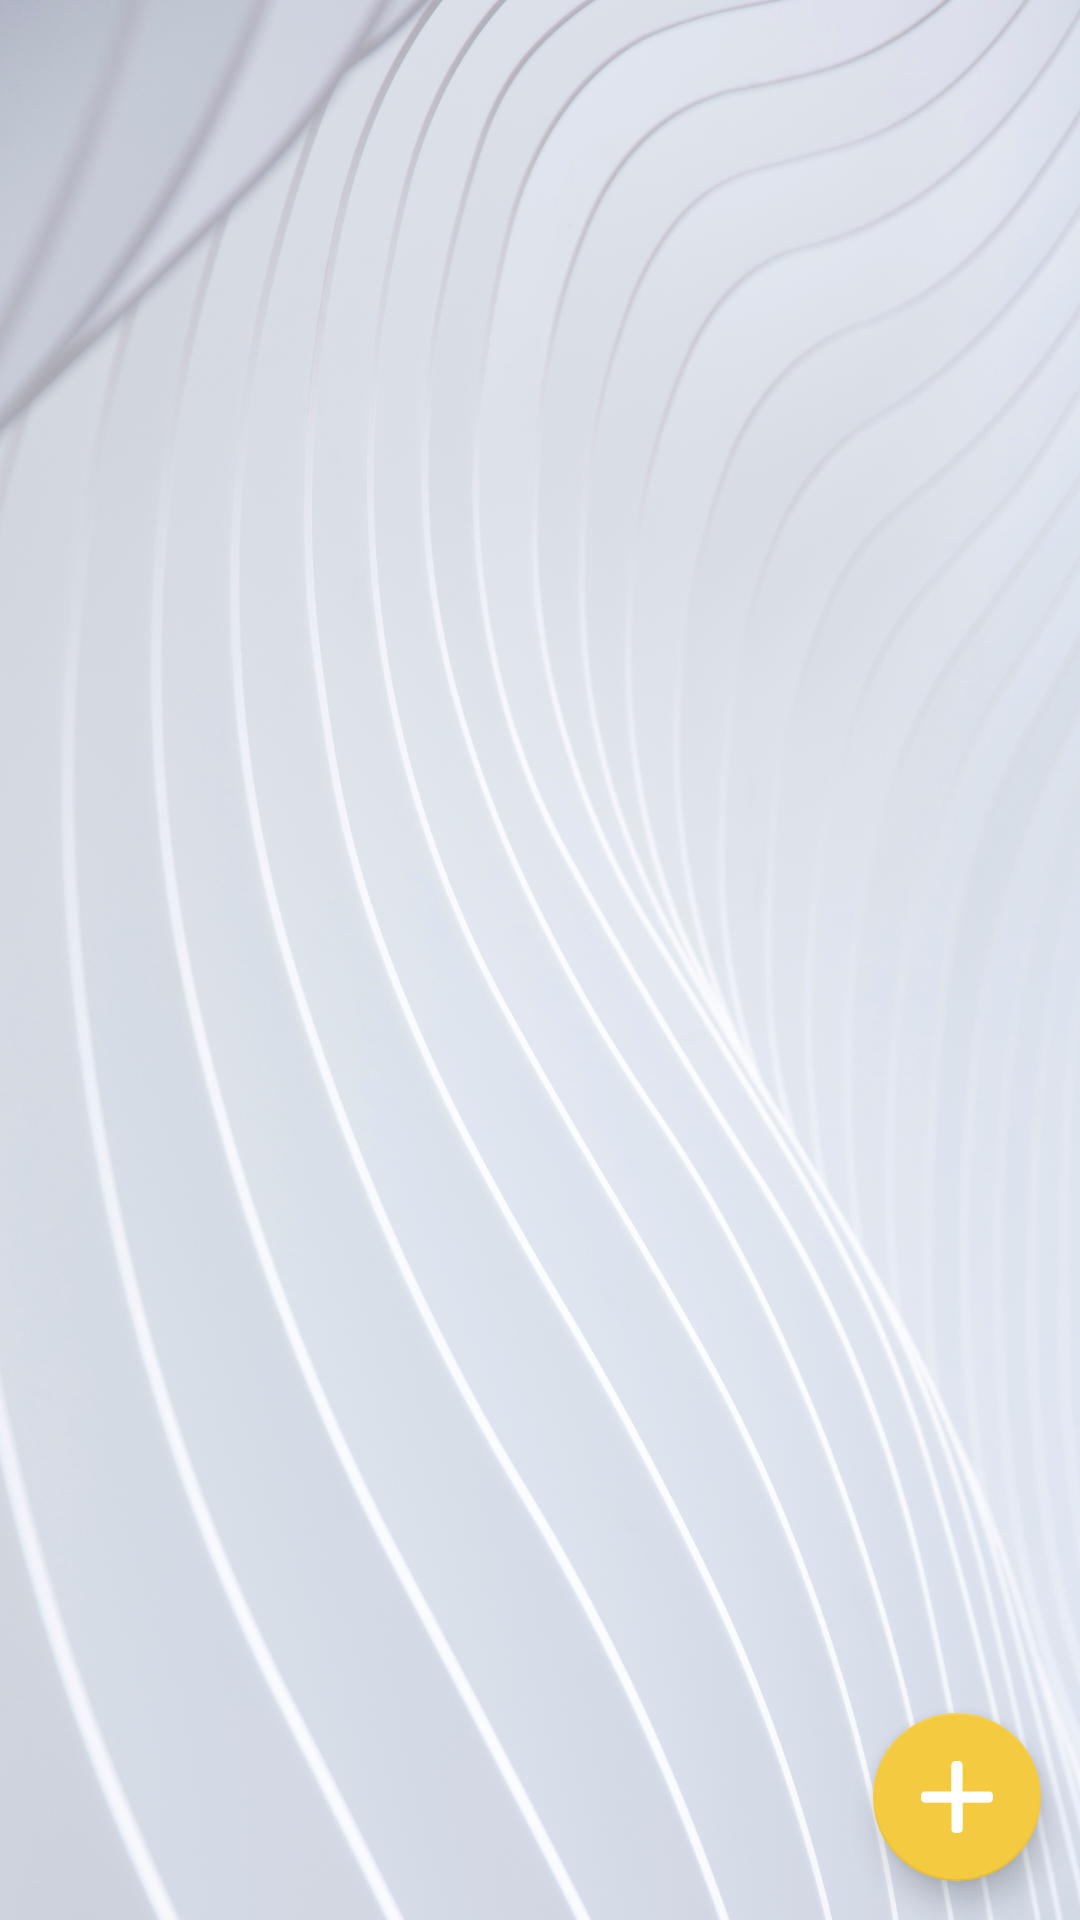

Screen size 1080*1920. Icon name, then its box in pixels as (x1,y1,x2,y2):
add: (873,1713,1041,1881)
